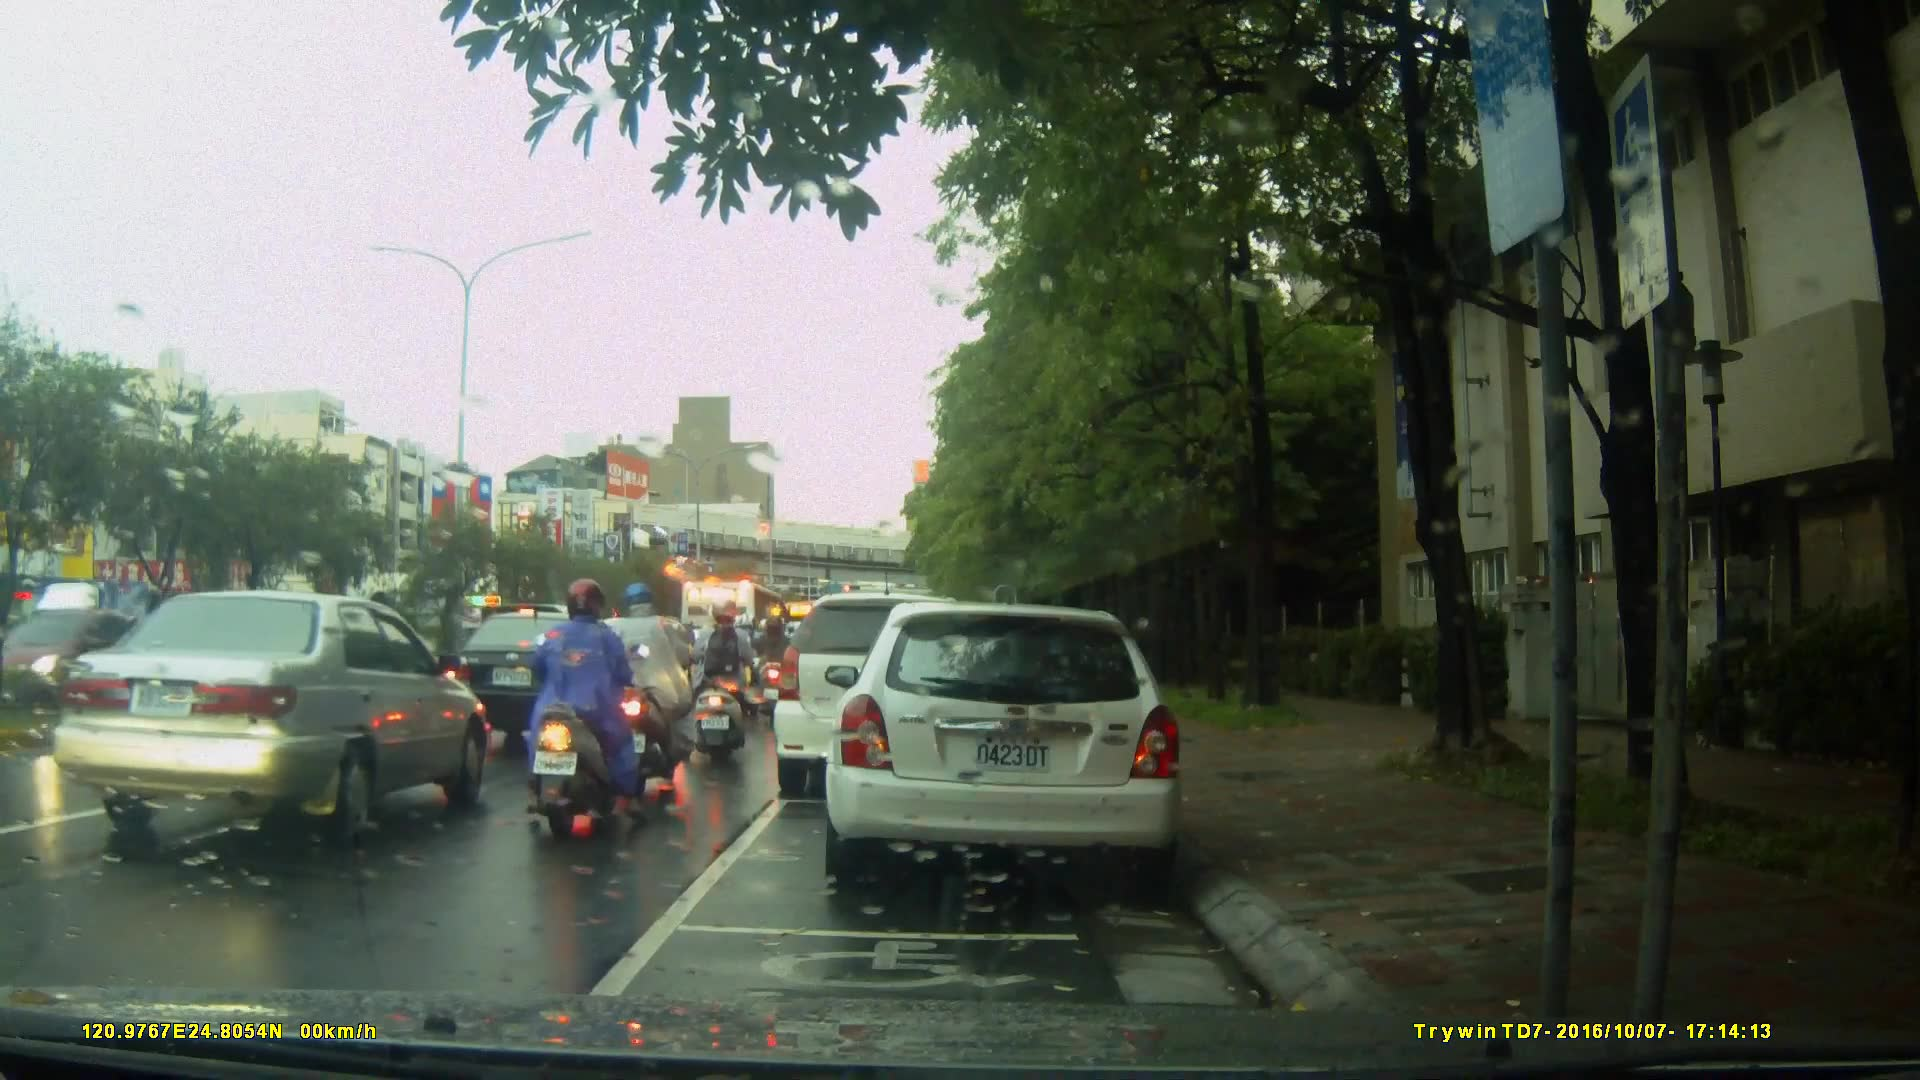rider: (521, 576, 640, 840), (620, 582, 704, 783), (687, 598, 753, 750), (755, 612, 795, 719)
vehicle: (54, 588, 495, 848), (831, 592, 1196, 897), (769, 592, 999, 800), (439, 608, 621, 739), (4, 604, 154, 715), (679, 580, 801, 705)
